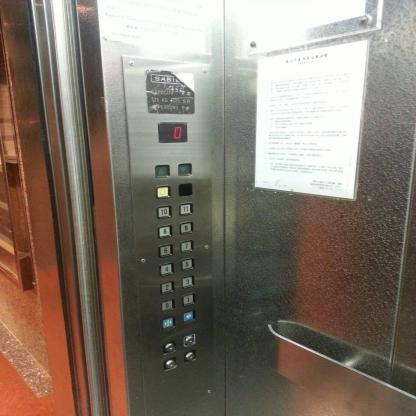0: (160, 298, 176, 312)
1: (180, 292, 196, 306)
10: (155, 204, 172, 219)
11: (177, 202, 193, 216)
2: (158, 280, 175, 294)
3: (180, 275, 194, 288)
4: (157, 262, 174, 276)
5: (179, 256, 195, 271)
6: (157, 242, 173, 258)
7: (178, 239, 194, 253)
8: (156, 224, 173, 239)
9: (178, 220, 194, 235)
alarm: (155, 184, 172, 199)
close: (160, 316, 175, 329)
down: (176, 163, 192, 176)
empty: (176, 182, 193, 196)
keyhole: (162, 341, 176, 353), (183, 350, 196, 362), (182, 334, 196, 345), (163, 358, 177, 369)
led: (155, 121, 189, 143)
open: (181, 310, 195, 323)
up: (153, 164, 171, 178)
